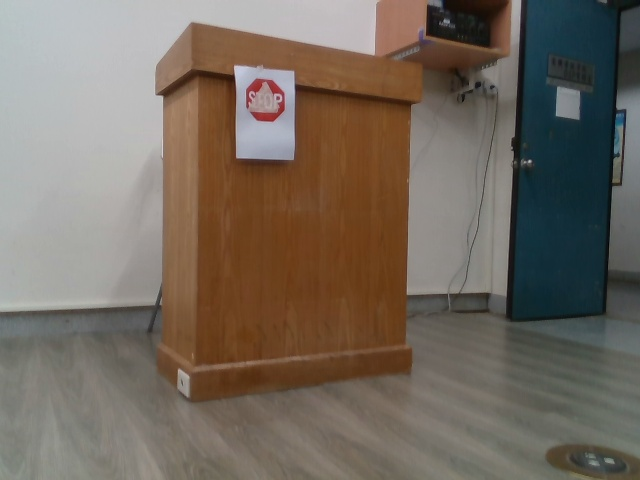stop: (242, 77, 288, 124)
